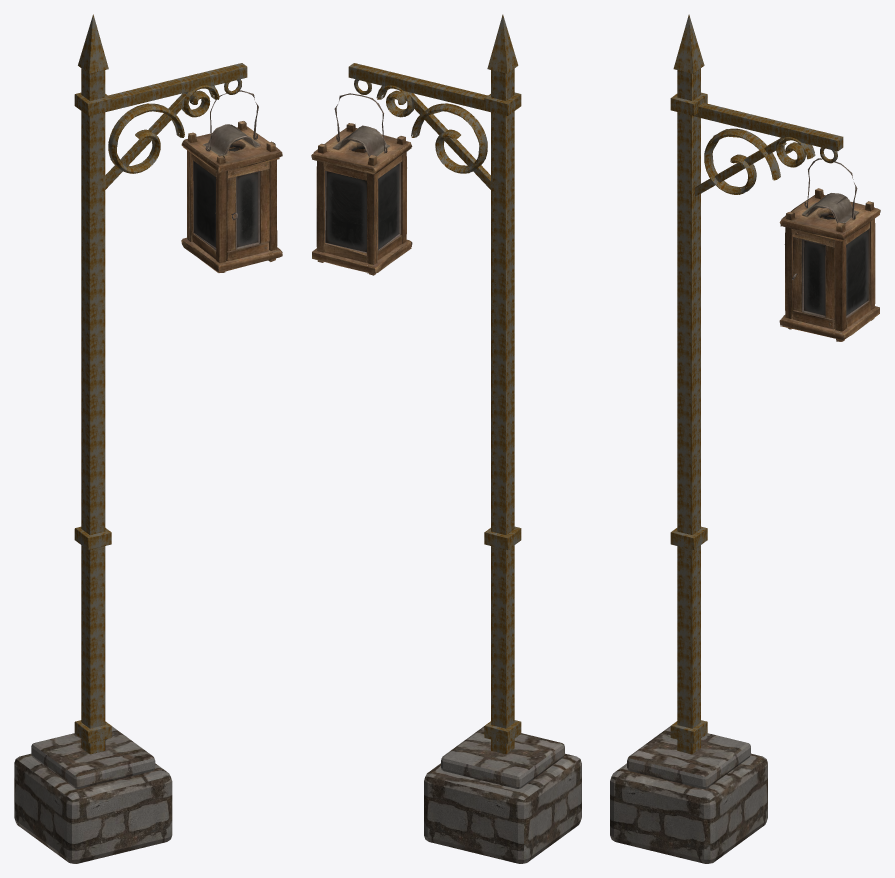
The model's file is lamp_post.glb.
3 views of the same model, side by side, from view 1: azimuth 30°, elevation 25°; view 2: azimuth 150°, elevation 25°; view 3: azimuth 330°, elevation 25° (orthographic).
Visible parts, largest first — view 1: lamp_post, lamp_base, wooden_lantern_01, wooden_lantern_01_door; view 2: lamp_post, lamp_base, wooden_lantern_01; view 3: lamp_post, lamp_base, wooden_lantern_01, wooden_lantern_01_door.
Boxes of the visible parts, bbox=[...] form: lamp_post: bbox=[74, 14, 247, 754]; lamp_base: bbox=[14, 726, 172, 863]; wooden_lantern_01: bbox=[181, 121, 282, 272]; wooden_lantern_01_door: bbox=[226, 161, 269, 260]; lamp_post: bbox=[348, 14, 521, 754]; lamp_base: bbox=[424, 726, 581, 863]; wooden_lantern_01: bbox=[311, 123, 412, 275]; lamp_post: bbox=[670, 14, 843, 754]; lamp_base: bbox=[610, 726, 767, 863]; wooden_lantern_01: bbox=[779, 188, 880, 341]; wooden_lantern_01_door: bbox=[792, 229, 835, 329].
Size of the model in its own units: 0.9459 by 3.31 by 0.44.
4 materials, 4 textured.
